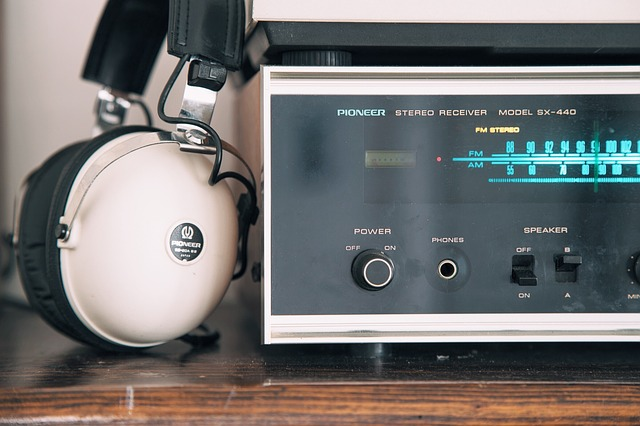headphones: (15, 1, 259, 350)
